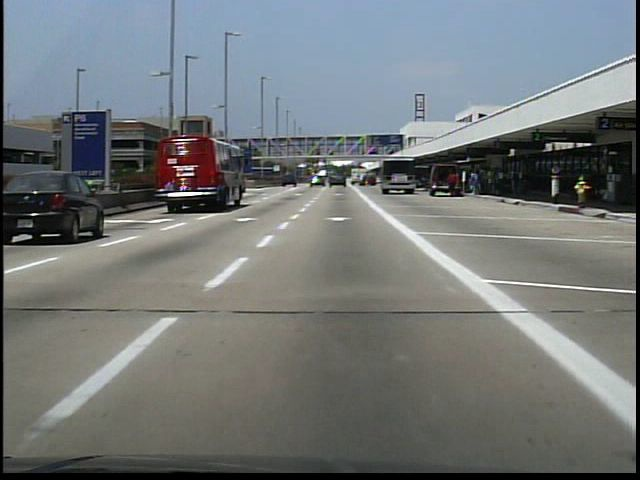person: (447, 168, 462, 202)
